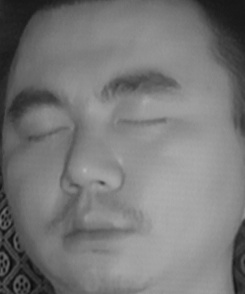blink: (114, 103, 169, 139), (23, 114, 74, 150)
mouth: (50, 201, 142, 257)
